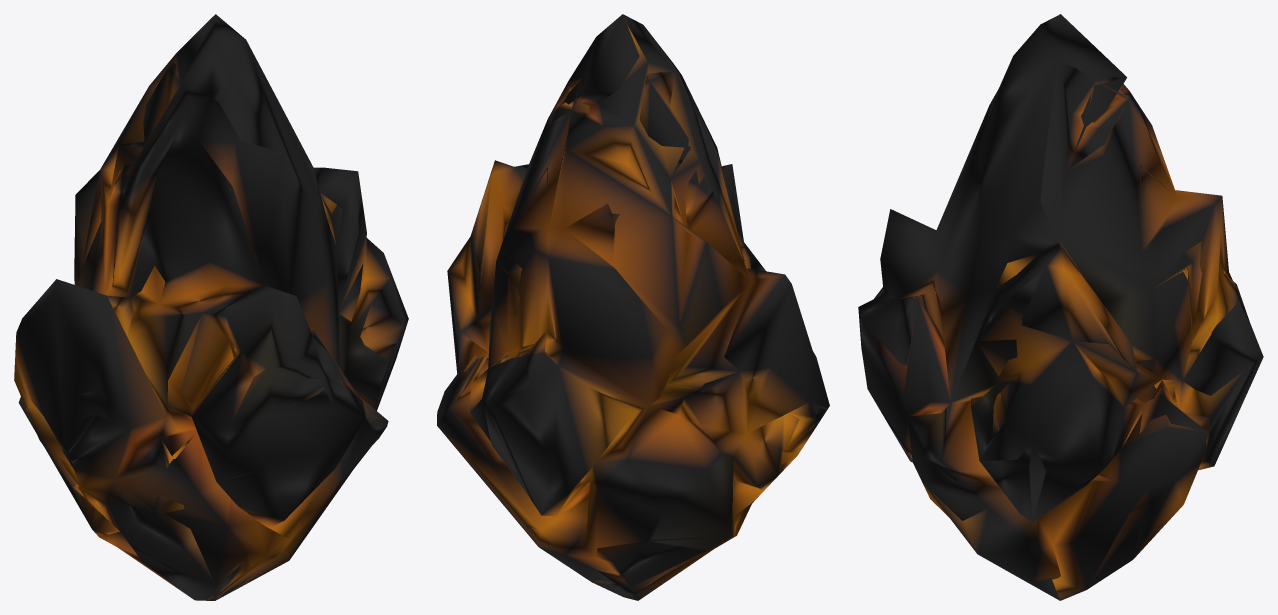
The model's file is gen3d-magma-crystal-lod1.glb.
3 renders of one model, left to right at view 1: azimuth 30°, elevation 25°; view 2: azimuth 150°, elevation 25°; view 3: azimuth 270°, elevation 25°, orthographic.
Parts seen in each view (by area): view 1: part_0; view 2: part_0; view 3: part_0.
Part boxes in pixels (<box>): part_0: <box>14,14,408,600</box>; part_0: <box>437,14,829,600</box>; part_0: <box>858,14,1263,600</box>.
Size of the model in its own units: 0.6379 by 0.9953 by 0.6227.
